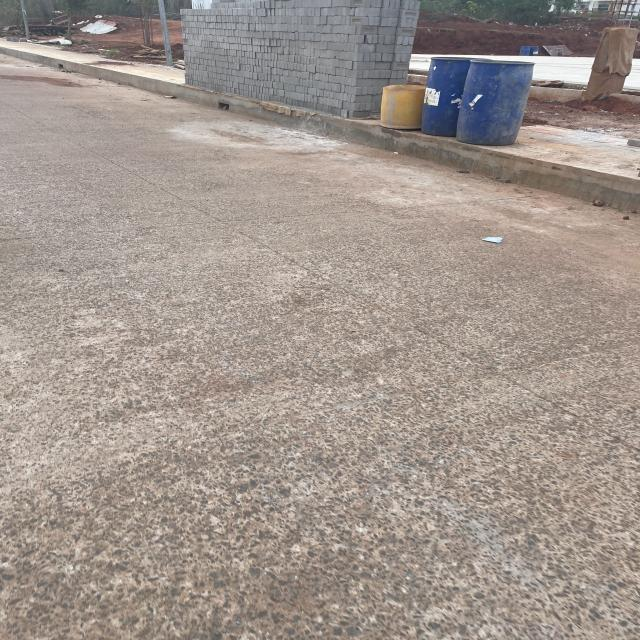D01: (235, 191, 603, 442)
